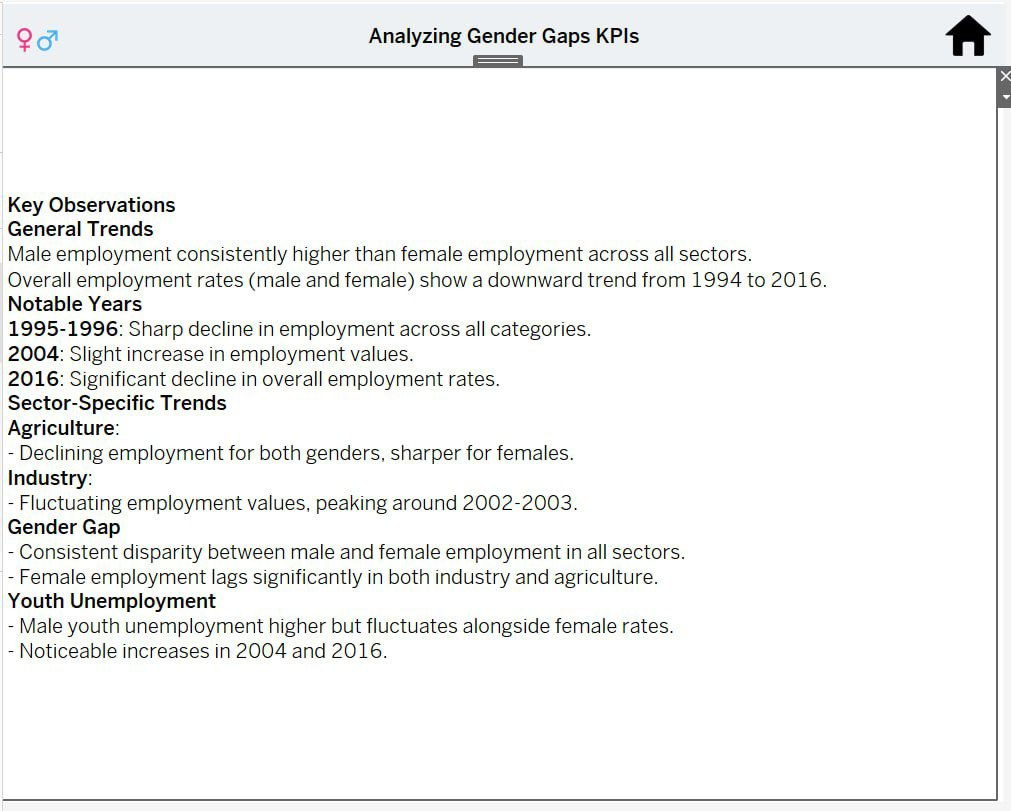

The dashboard page shown, as its layout file describes it:
{"tool":"tableau","page":{"name":"Dashboard 3 (4)","canvas":[1000,800],"ordinal":4},"visuals":[{"type":"image","param":"Image/pngtree-cartoon-simple-gender-male-and-female-symbol-free-png-image_422792","box":[3,8,74,59]},{"type":"text","box":[8,8,984,60]},{"type":"dashboard-object","box":[933,10,64,46]},{"type":"dashboard-object","box":[892,16,43,38]},{"type":"dashboard-object","box":[852,17,37,38]}]}

Visuals, with their boxes on the page's 1000x800 design canvas (x1, y1, x2, y2). These are canvas units, not pixel positions in the 1011x811 screenshot, which may show the page scaled, cropped or inside an application window:
image: region(3, 8, 77, 67)
text: region(8, 8, 992, 68)
dashboard-object: region(933, 10, 997, 56)
dashboard-object: region(892, 16, 935, 54)
dashboard-object: region(852, 17, 889, 55)
